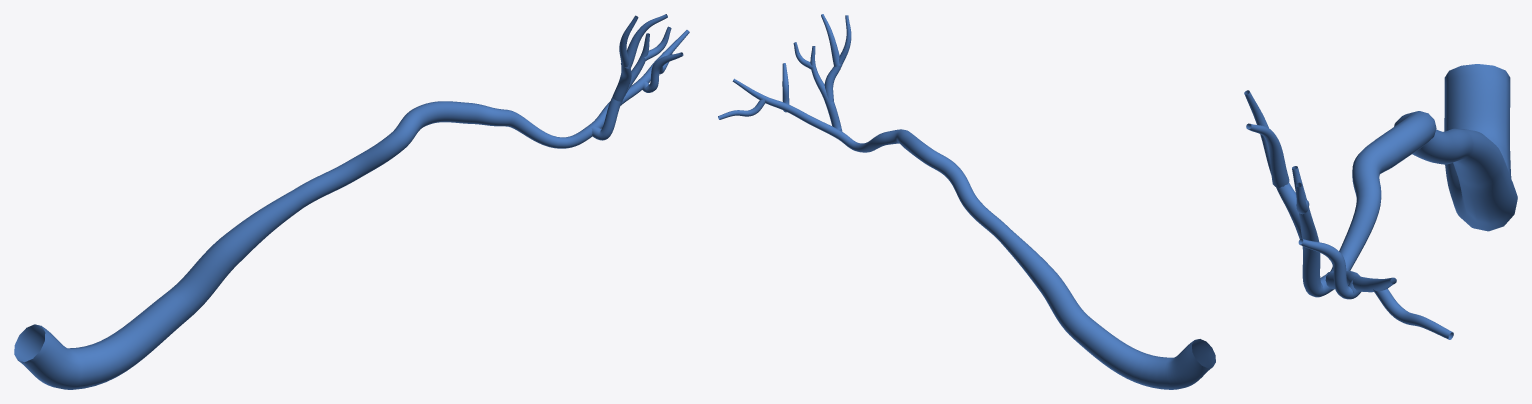
3 renders of one model, left to right at view 1: azimuth 30°, elevation 25°; view 2: azimuth 150°, elevation 25°; view 3: azimuth 270°, elevation 25°, orthographic. The views are drawn at different scales.
Parts seen in each view (by area): view 1: 脾静脉; view 2: 脾静脉; view 3: 脾静脉.
Boxes of the visible parts, <box> form: 脾静脉: <box>14,14,689,389</box>; 脾静脉: <box>718,14,1215,389</box>; 脾静脉: <box>1244,64,1517,339</box>.
Size of the model in its own units: 0.1564 by 0.0713 by 0.0369.
